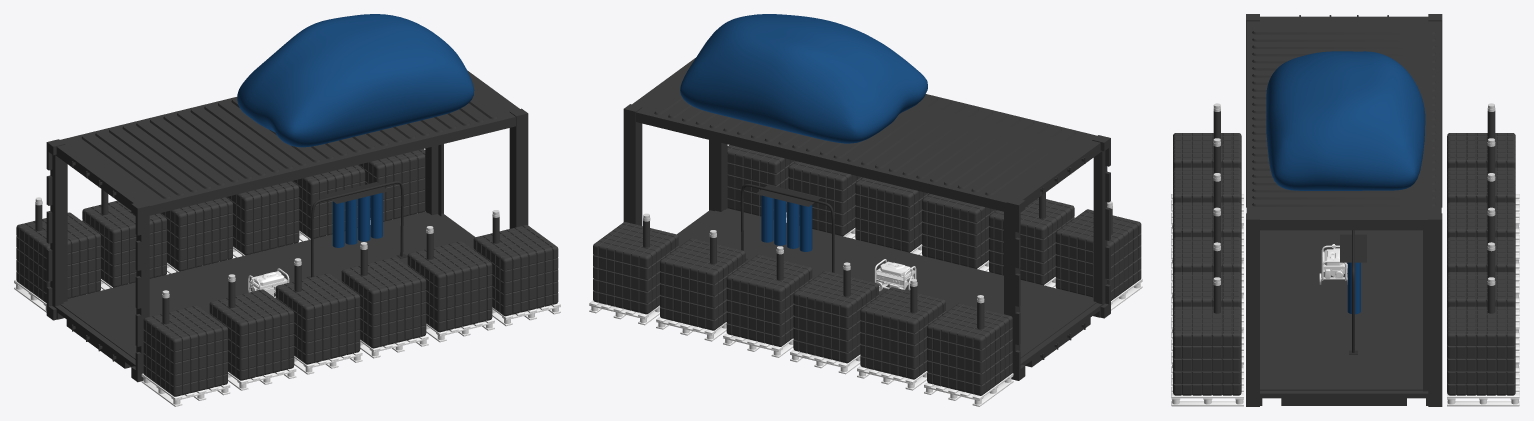
File: biodigestor.glb
The picture shows the model from 3 angles, left to right: view 1: azimuth 30°, elevation 25°; view 2: azimuth 150°, elevation 25°; view 3: azimuth 270°, elevation 25°; orthographic projection. The views are drawn at different scales.
Parts seen in each view (by area): view 1: Cube_3, Container_2, Plane_5, Palette_lambert1_0_15, Plane.001_6, Generator_obj_cleaner_materialmerger_gles_10; view 2: Cube_3, Container_2, Plane_5, Palette_lambert1_0_15, Plane.001_6, Generator_obj_cleaner_materialmerger_gles_10; view 3: Container_2, Cube_3, Plane_5, Palette_lambert1_0_15, Plane.001_6, Generator_obj_cleaner_materialmerger_gles_10.
Boxes of the visible parts, x1=… form: Cube_3: x1=16, y1=149, x2=558, y2=396; Container_2: x1=46, y1=70, x2=528, y2=382; Plane_5: x1=237, y1=14, x2=474, y2=147; Palette_lambert1_0_15: x1=14, y1=218, x2=560, y2=406; Plane.001_6: x1=307, y1=181, x2=407, y2=277; Generator_obj_cleaner_materialmerger_gles_10: x1=248, y1=268, x2=289, y2=297; Cube_3: x1=593, y1=145, x2=1141, y2=395; Container_2: x1=623, y1=58, x2=1110, y2=380; Plane_5: x1=680, y1=14, x2=927, y2=143; Palette_lambert1_0_15: x1=589, y1=212, x2=1142, y2=406; Plane.001_6: x1=740, y1=184, x2=834, y2=272; Generator_obj_cleaner_materialmerger_gles_10: x1=874, y1=259, x2=916, y2=291; Container_2: x1=1246, y1=14, x2=1442, y2=406; Cube_3: x1=1173, y1=103, x2=1515, y2=395; Plane_5: x1=1266, y1=51, x2=1425, y2=190; Palette_lambert1_0_15: x1=1171, y1=194, x2=1519, y2=406; Plane.001_6: x1=1340, y1=230, x2=1366, y2=354; Generator_obj_cleaner_materialmerger_gles_10: x1=1319, y1=244, x2=1347, y2=284.
Bounding box in the file's own units: 5.93 × 3.66 × 4.24.
